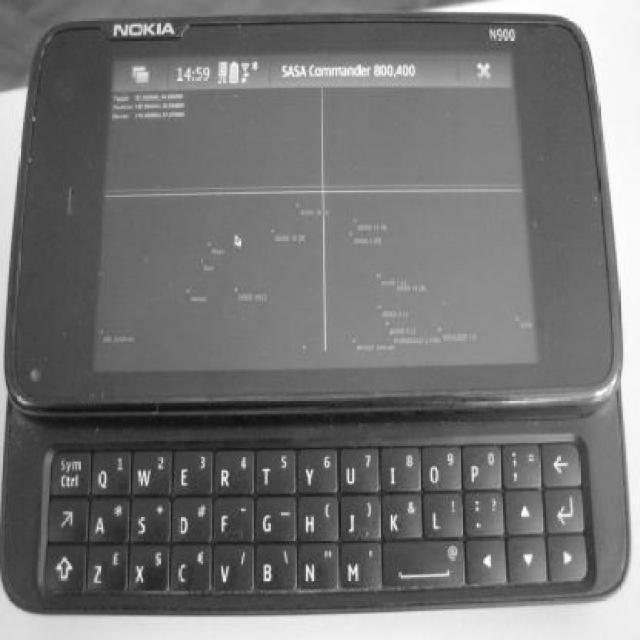fake: (0, 9, 632, 608)
